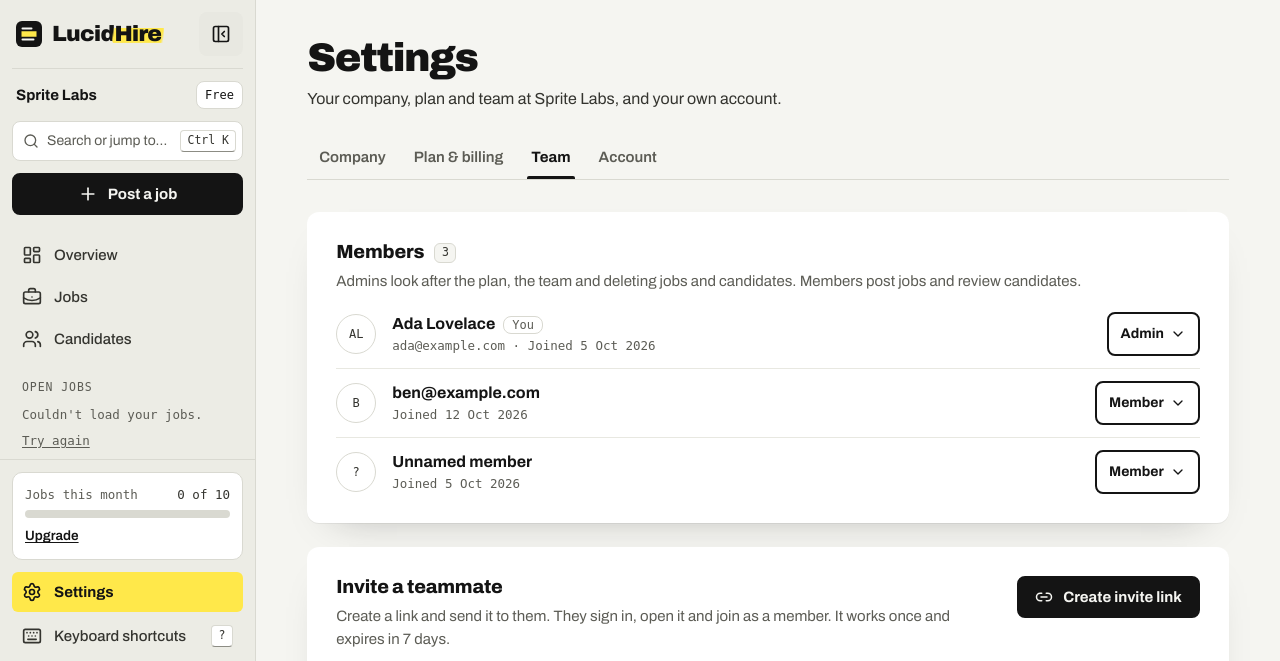
it: the members card › asks before an admin makes themselves a member, and keeps the role on the last-admin refusal
This screenshot has width=1280, height=661.
Step 1. Click the button named "Role for Ada Lovelace: Admin" → (1153, 334), box [1106,312,1200,356]
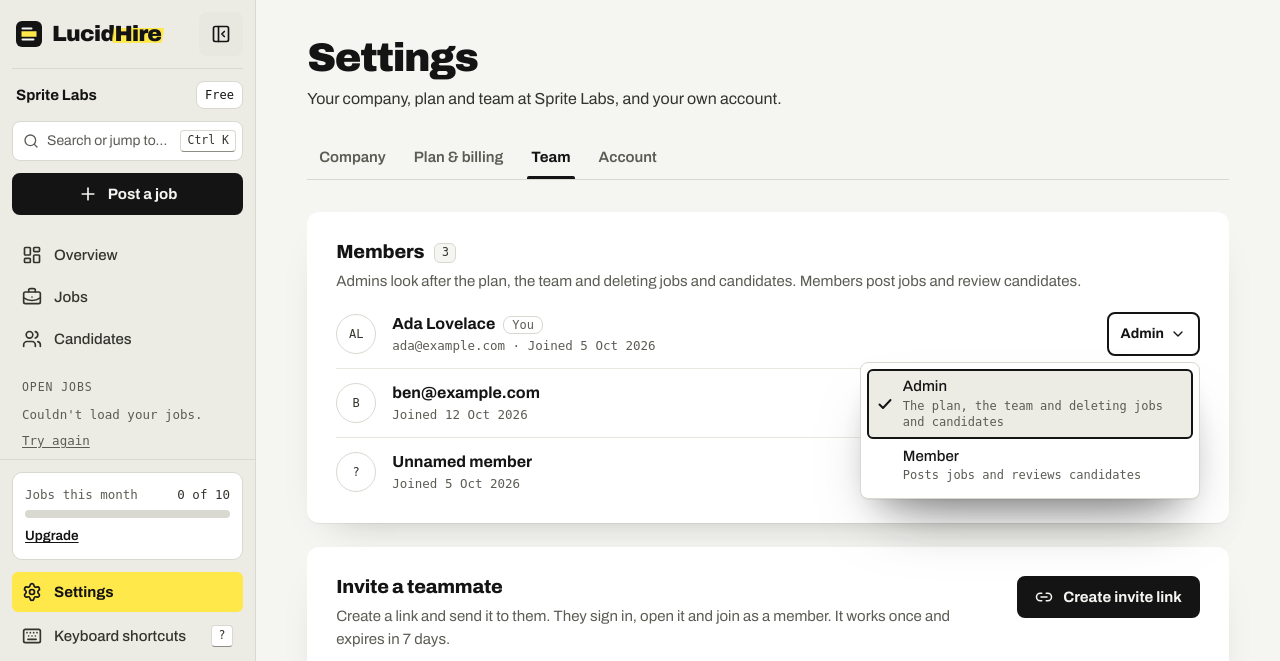
Step 2. Click the menu item "Member Posts jobs and reviews candidates" → (931, 456), box [867,439,1193,492]
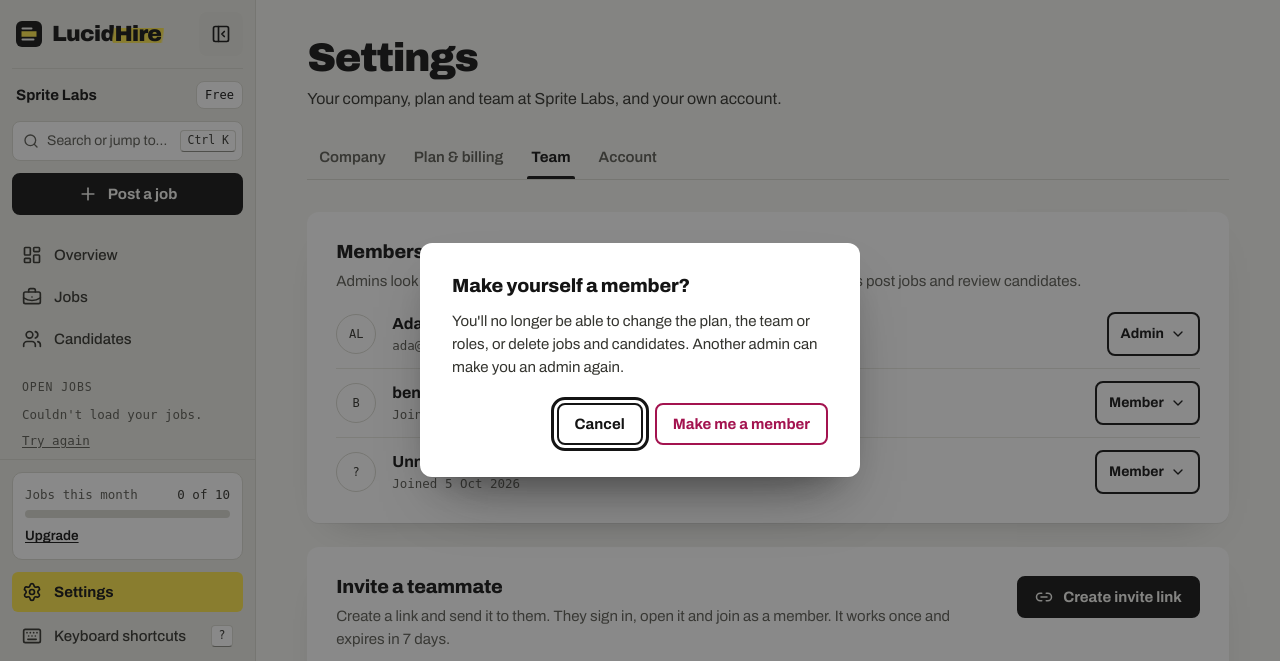
Step 3. Click the button "Make me a member" → (741, 424), box [655,403,828,445]
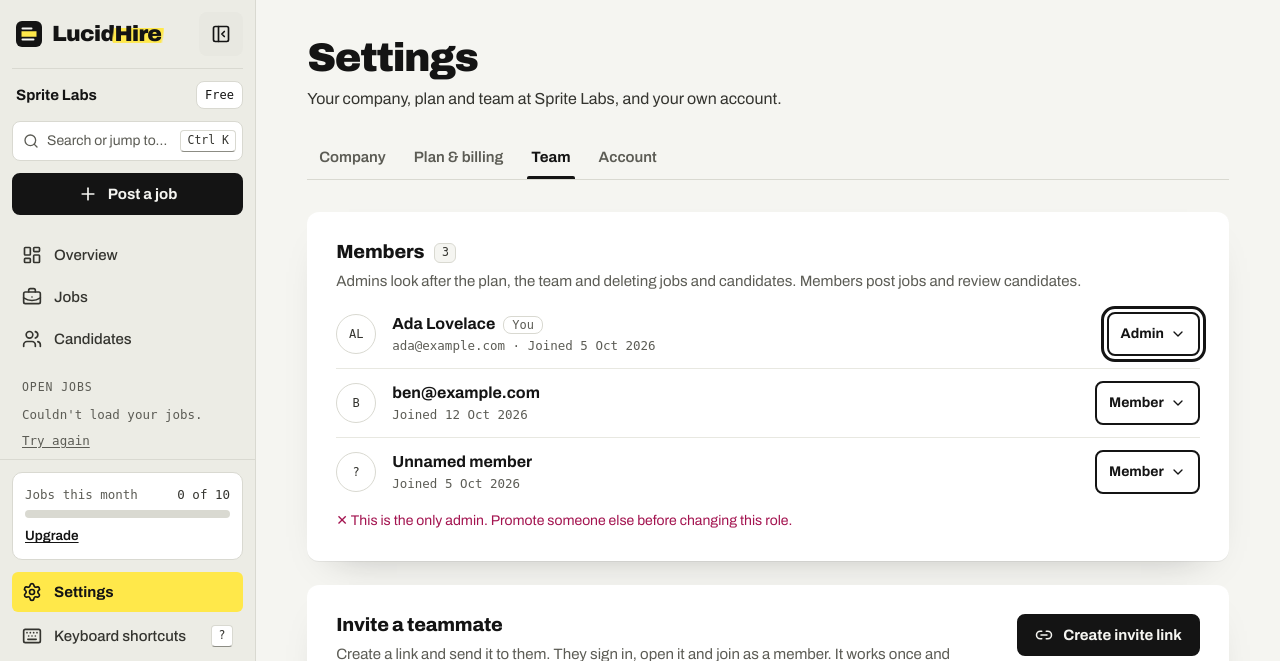
Check: the button named "Role for Ada Lovelace: Admin" is shown, box [1106,312,1200,356]
Check: the message shows "This is the only admin. Promote someone else before changing this role.", box [351,514,792,528]
